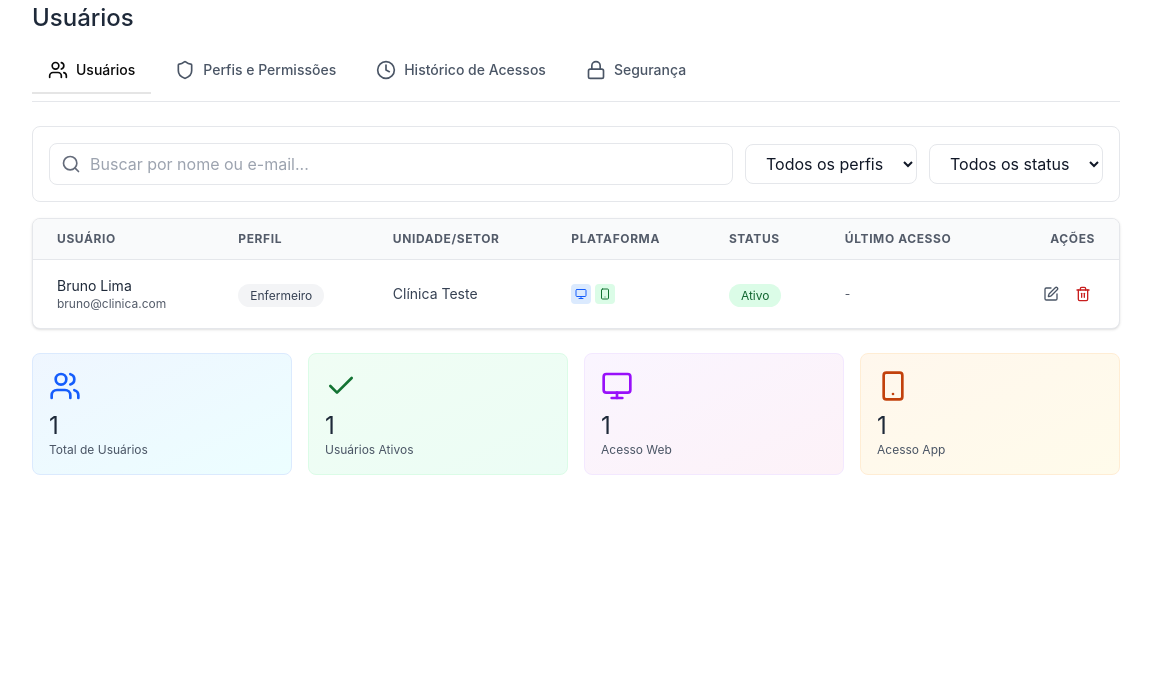
Scenario: Usuários: auditoria das mudanças › salvar as permissões do perfil: registra
The image size is (1152, 696).
Later steps or results of the test are not shown.
Click the button "Perfis e Permissões": (256,71) [159,48,352,94]
(page scrolled)
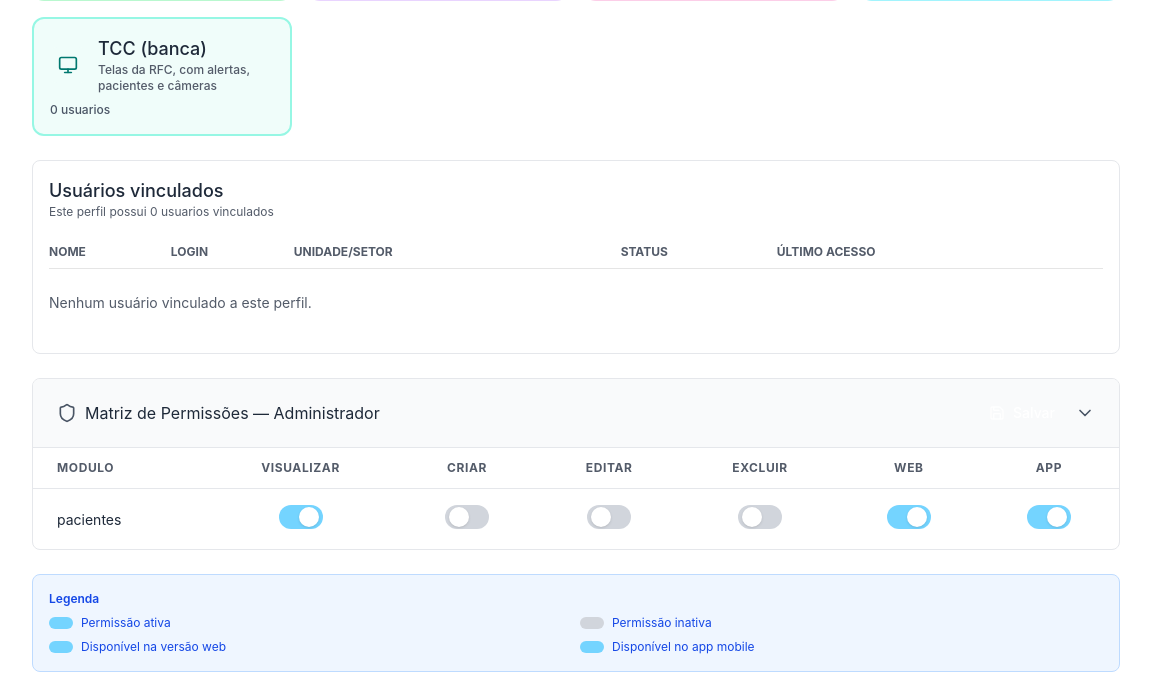
Check: the button titled "Criar: negado" is shown, box [445,505,489,529]
